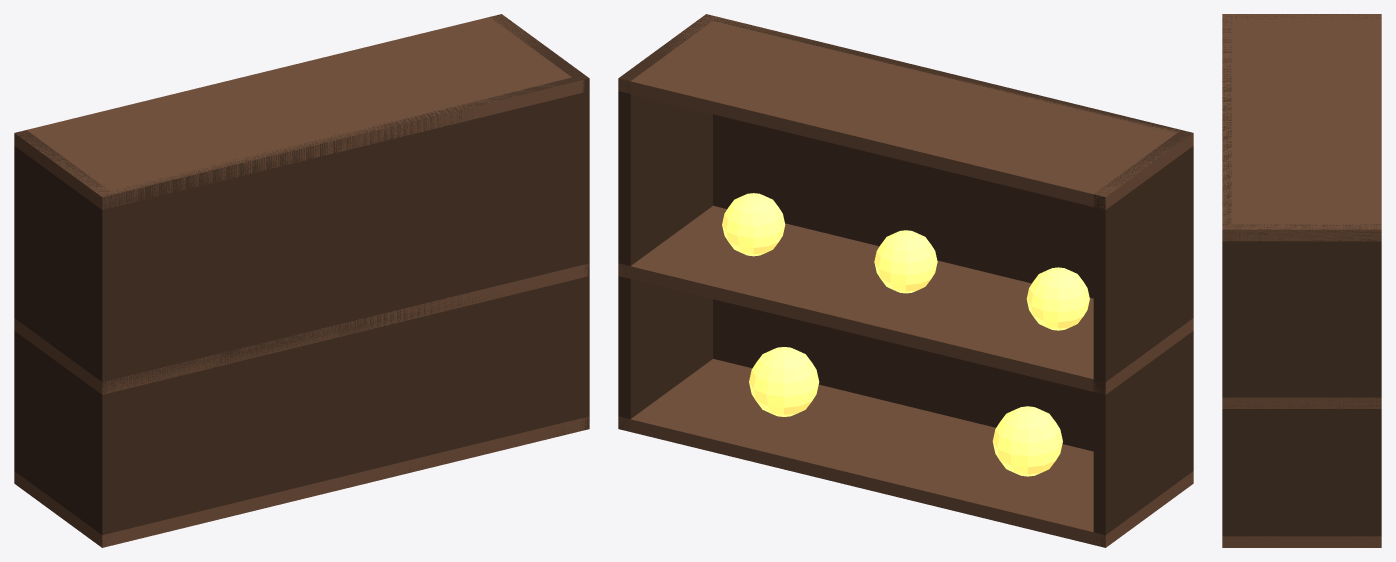
File: furniture_lantern_shelf.glb
3 views of the same model, side by side, from view 1: azimuth 30°, elevation 25°; view 2: azimuth 150°, elevation 25°; view 3: azimuth 270°, elevation 25° (orthographic). The views are drawn at different scales.
Visible parts, largest first — view 1: PROP_LanternShelf; view 2: PROP_LanternShelf; view 3: PROP_LanternShelf.
Part boxes in pixels (x1=…): PROP_LanternShelf: x1=14, y1=14, x2=589, y2=547; PROP_LanternShelf: x1=618, y1=14, x2=1193, y2=547; PROP_LanternShelf: x1=1222, y1=14, x2=1381, y2=547.
Bounding box in the file's own units: 1.6 × 1.1 × 0.5.
